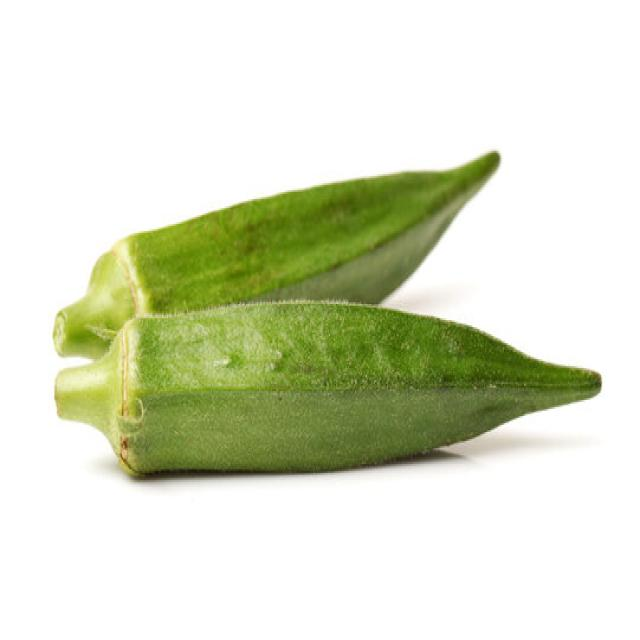Okra: (53, 298, 602, 476), (52, 148, 500, 359)
